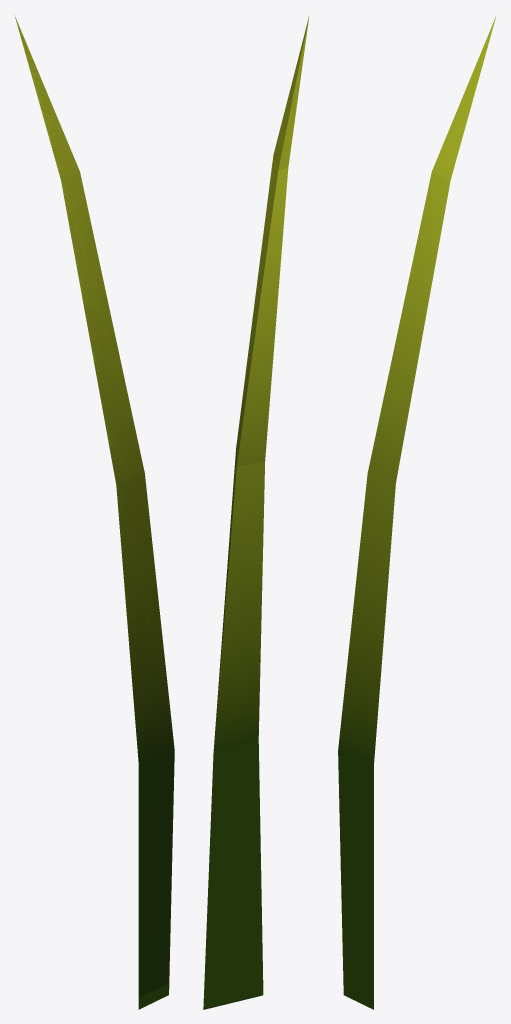
The model's file is grass.obj.
3 renders of one model, left to right at view 1: azimuth 90°, elevation 25°; view 2: azimuth 210°, elevation 25°; view 3: azimuth 270°, elevation 25°, orthographic. The views are drawn at different scales.
Parts seen in each view (by area): view 1: Plane; view 2: Plane; view 3: Plane.
Boxes of the visible parts, left/top/right/bottom form: Plane: left=14, top=15, right=174, bottom=1009; Plane: left=203, top=16, right=309, bottom=1009; Plane: left=338, top=15, right=496, bottom=1009.
Size of the model in its own units: 0.0228 by 0.3754 by 0.0553.
Materials: 1 (1 with a texture image).
